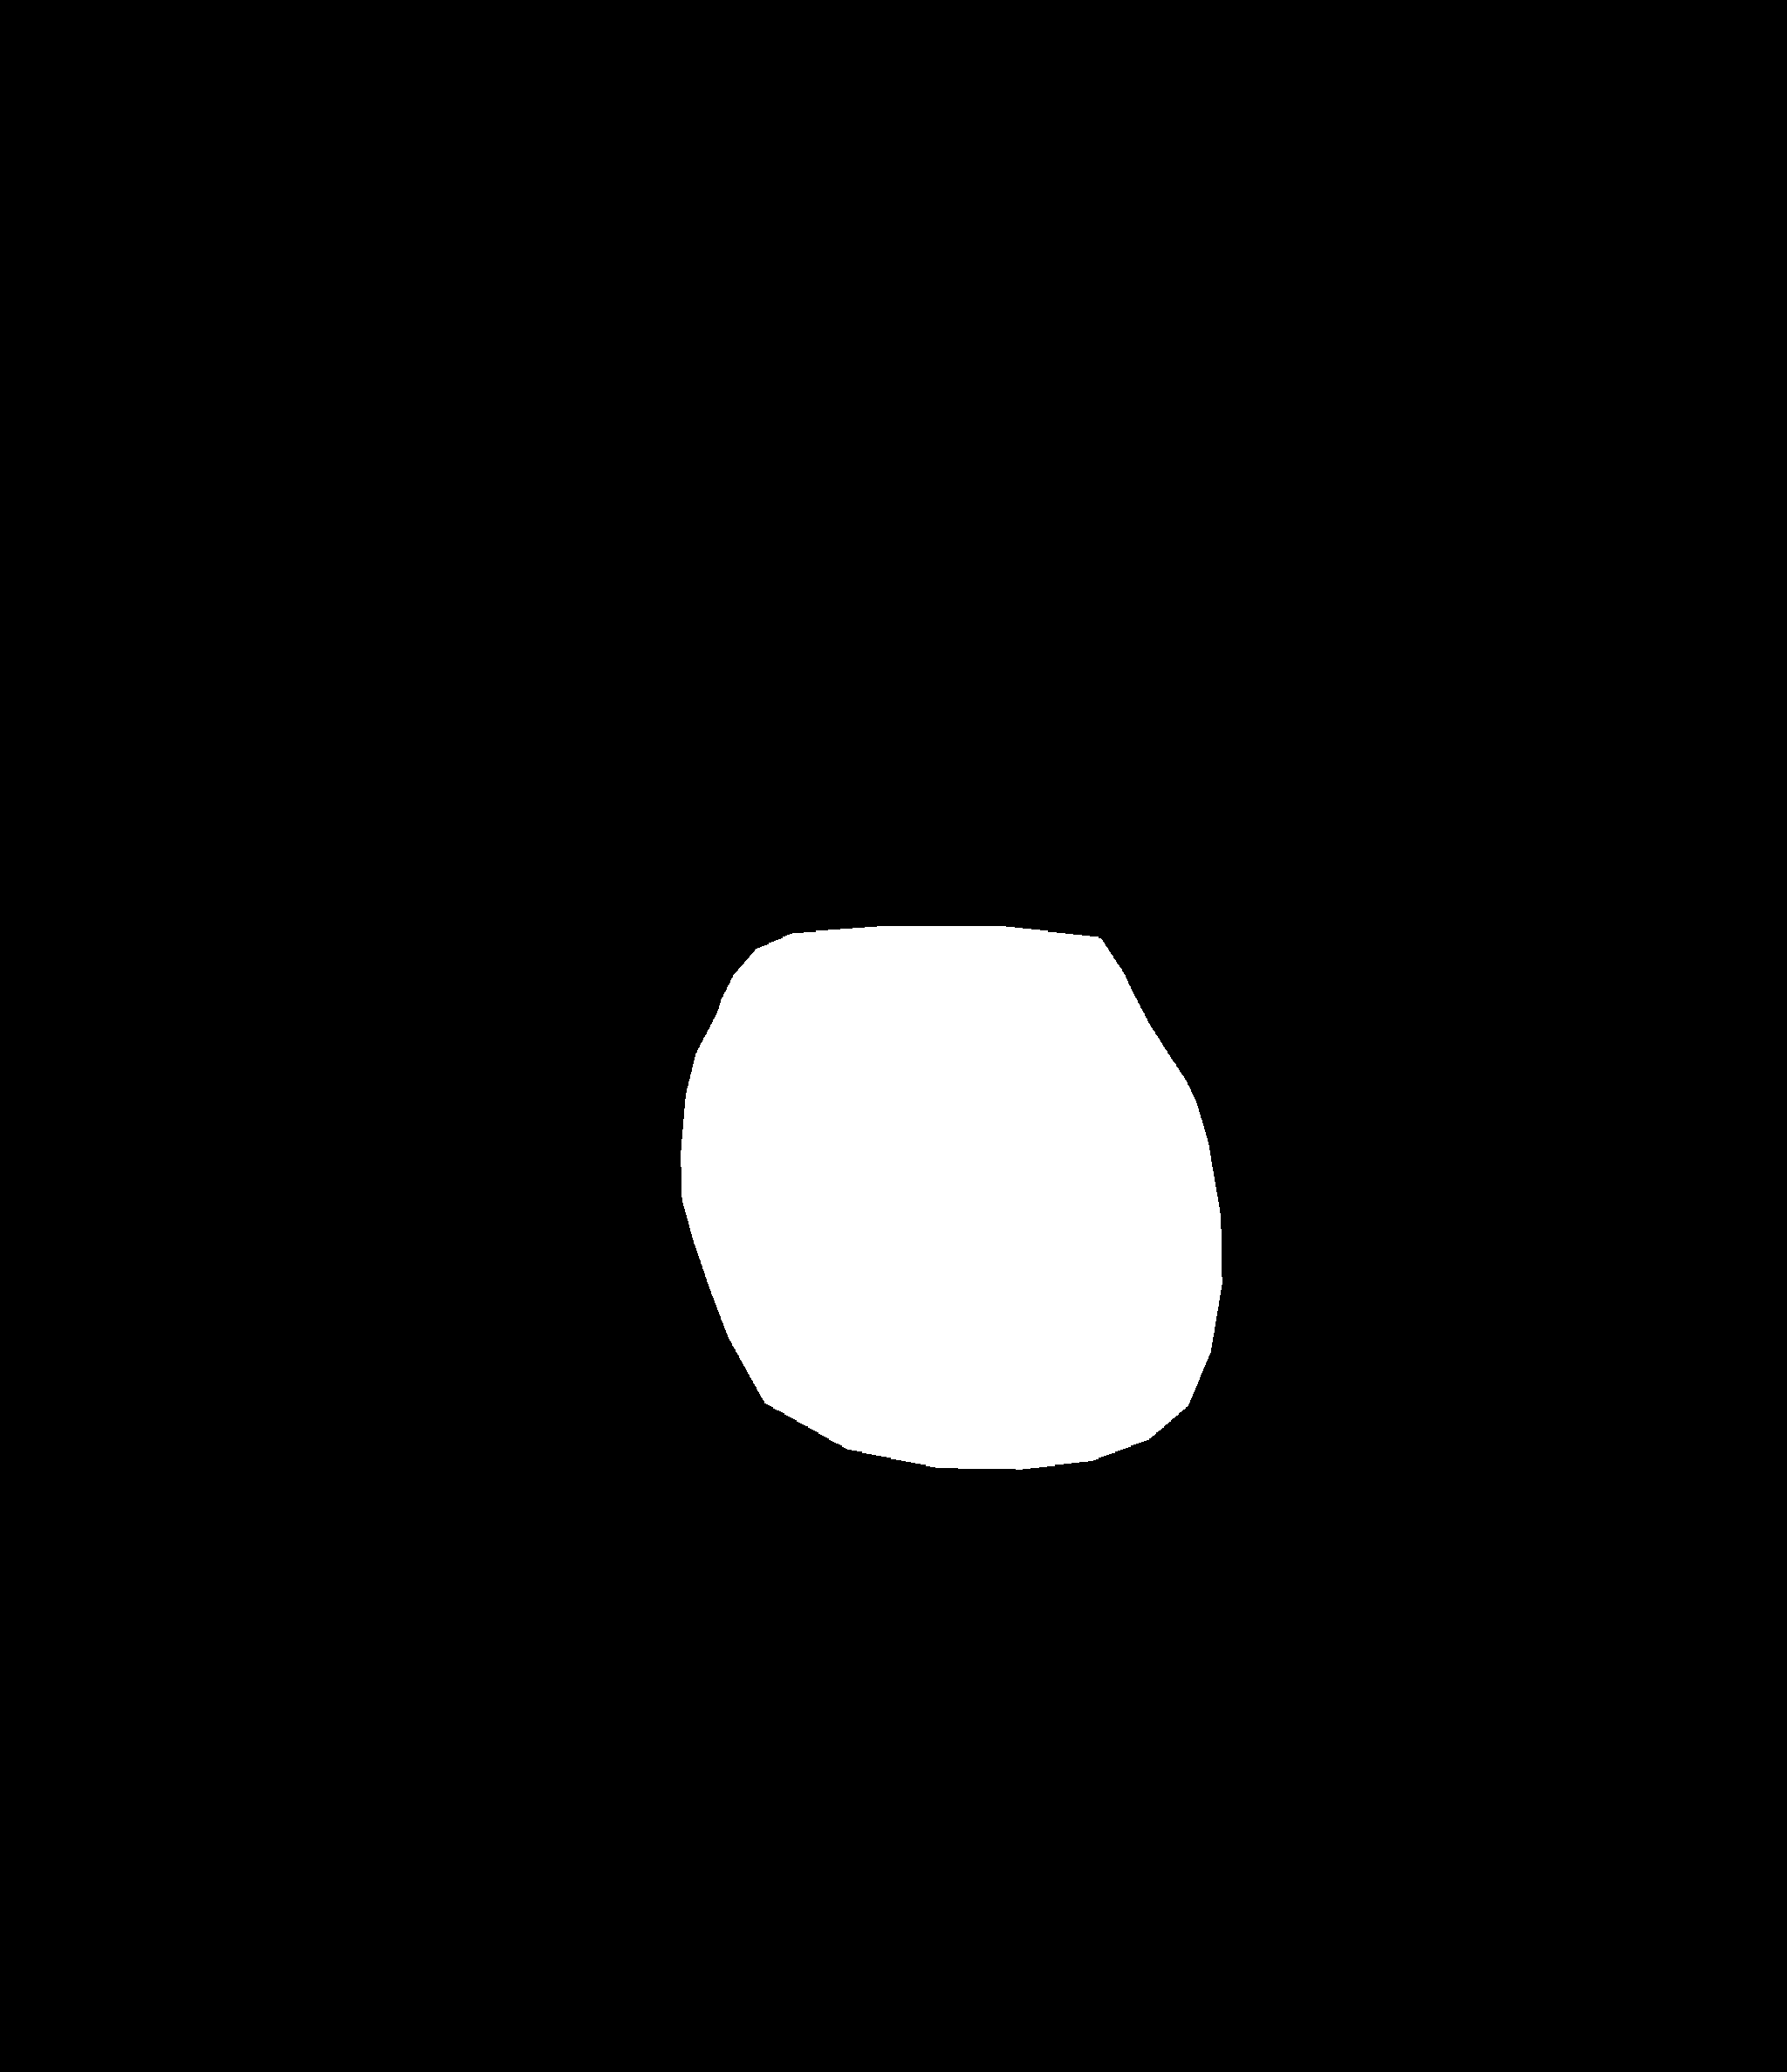heart: (678, 957, 1217, 1448)
left_lung: (185, 255, 799, 1633)
right_lung: (984, 282, 1563, 1721)
